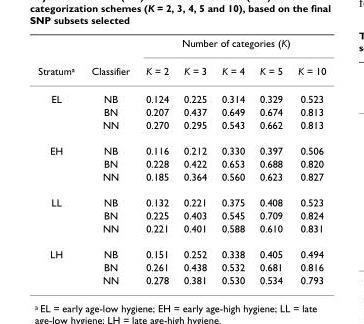table: (37, 36, 325, 285)
table column: (82, 36, 137, 285), (37, 36, 82, 285), (137, 36, 175, 285), (175, 36, 213, 285), (213, 36, 251, 285), (251, 36, 289, 285), (289, 36, 325, 285)
table column header: (37, 36, 325, 84)
table row: (37, 56, 325, 84), (37, 36, 325, 56), (37, 84, 325, 104), (37, 117, 325, 137), (37, 169, 325, 189), (37, 240, 325, 260), (37, 137, 325, 156), (37, 189, 325, 208), (37, 221, 325, 240), (37, 104, 325, 117), (37, 156, 325, 169), (37, 208, 325, 221), (37, 260, 325, 273), (37, 273, 325, 285)
table spanning cell: (137, 36, 325, 56), (82, 36, 137, 84), (37, 84, 82, 137), (37, 137, 82, 189), (37, 189, 82, 240), (37, 36, 82, 84), (37, 240, 82, 285)
